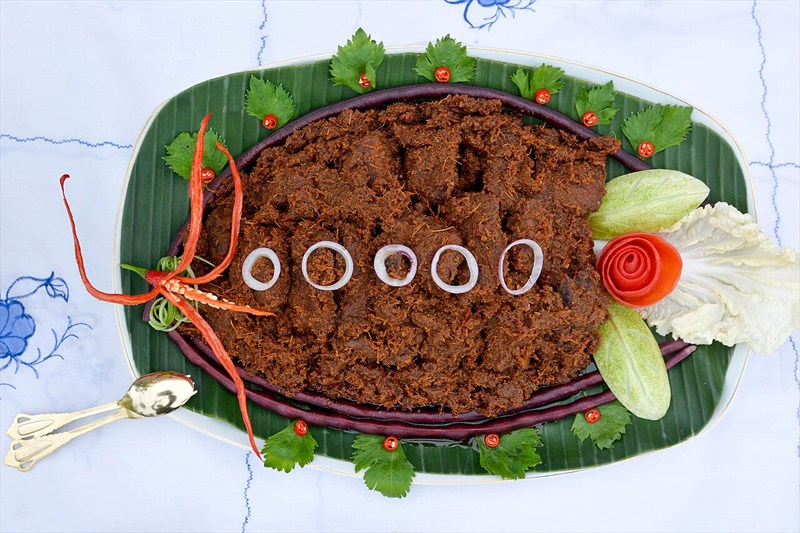Rendang: (142, 79, 663, 454)
